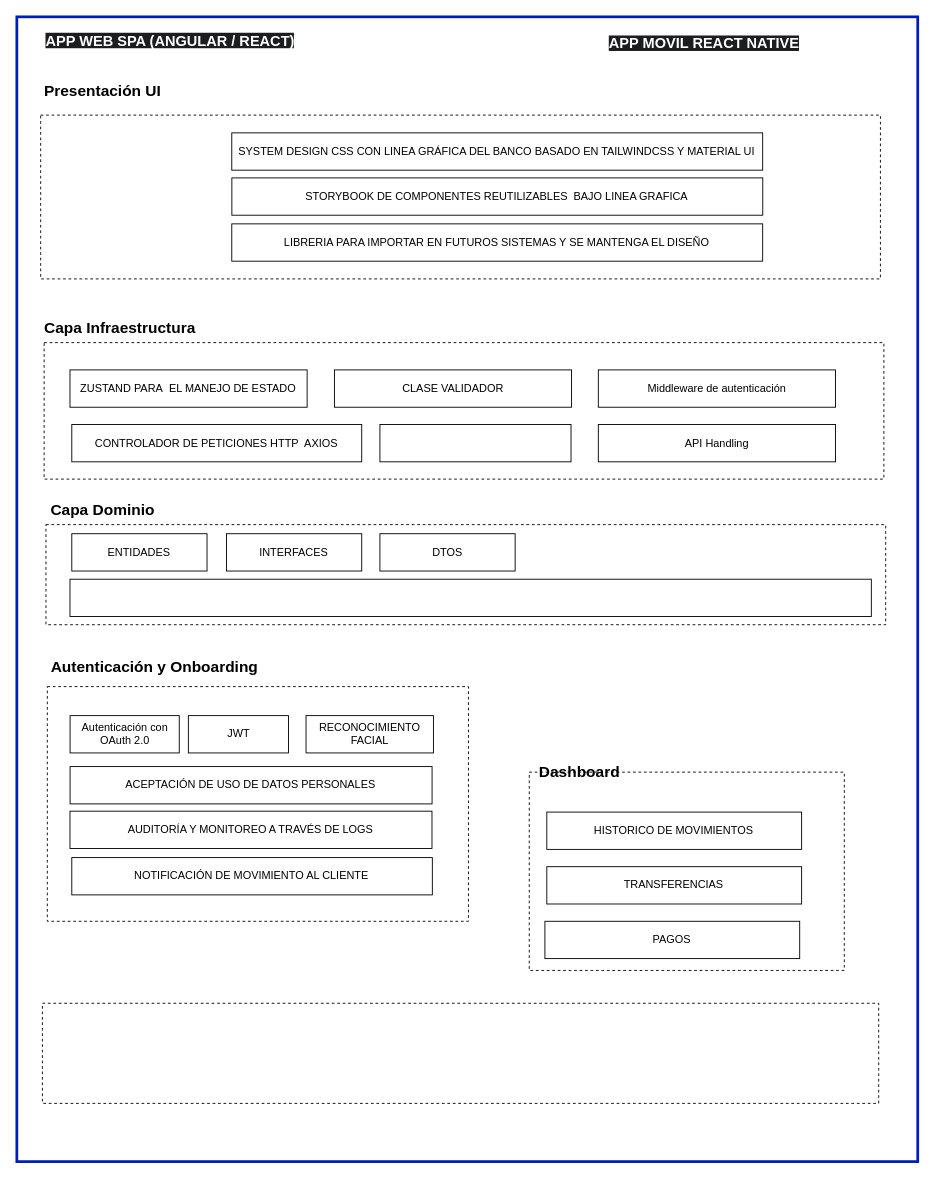
The diagram is 935 pixels wide and 1178 high, and some of its shapes have lost their labels. The shapes that lost their labels are listed below. From the top down, each one's centre as x and y in pixels, then its label:
At pixel 475 443: "CLASE DE UTILIDADES".
At pixel 470 597: "ESTRUCTURA DE CARPETAS DE ACUERDO A DOMINIO (DDD)".
At pixel 460 1052: "Lazy Loading Compresión de imágenes automática CDN (Content Delivery Network)".
